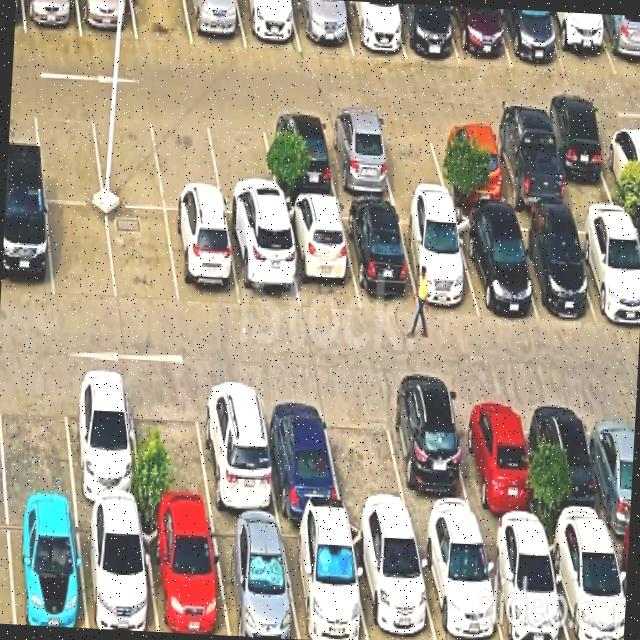empty: (323, 393, 411, 525), (129, 378, 212, 515), (0, 372, 75, 504), (206, 112, 280, 216), (91, 105, 164, 209), (153, 109, 223, 211), (107, 207, 179, 306), (34, 101, 103, 203), (47, 202, 116, 300), (375, 118, 449, 200), (551, 125, 622, 207), (132, 0, 192, 45)
occupied: (384, 395, 478, 528), (453, 396, 540, 532), (195, 383, 279, 518), (259, 387, 343, 519), (210, 517, 299, 639), (529, 398, 610, 532), (63, 373, 142, 510), (142, 514, 229, 636), (280, 521, 367, 640), (349, 524, 436, 640), (77, 509, 158, 632), (414, 530, 503, 640), (480, 530, 568, 640), (7, 507, 86, 628), (509, 215, 595, 320), (454, 213, 538, 320), (397, 208, 479, 317), (545, 532, 625, 640), (341, 205, 420, 311), (283, 203, 359, 311), (570, 212, 640, 322), (166, 211, 240, 307), (225, 216, 300, 310), (584, 401, 636, 533), (489, 124, 567, 211), (433, 122, 508, 206), (263, 115, 337, 200), (322, 117, 395, 200), (1, 195, 53, 298), (546, 11, 616, 75), (499, 9, 564, 72), (393, 3, 459, 64), (448, 6, 512, 67), (341, 1, 406, 59), (237, 0, 301, 52), (292, 0, 352, 54), (185, 0, 246, 49), (604, 126, 640, 206), (595, 14, 640, 77), (77, 0, 137, 40), (23, 0, 81, 36)
